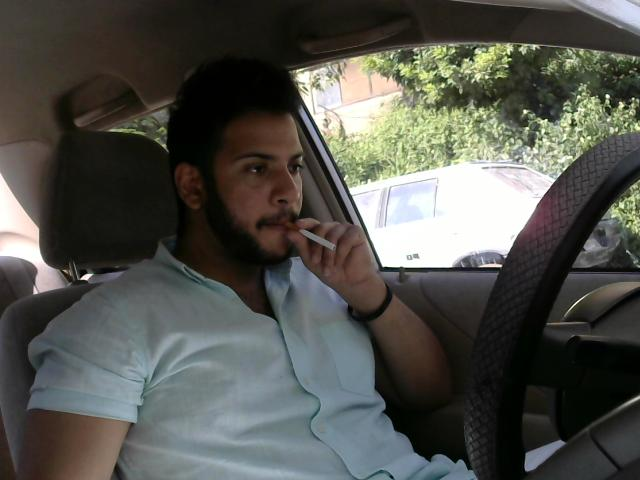Smoking: (281, 217, 339, 256)
